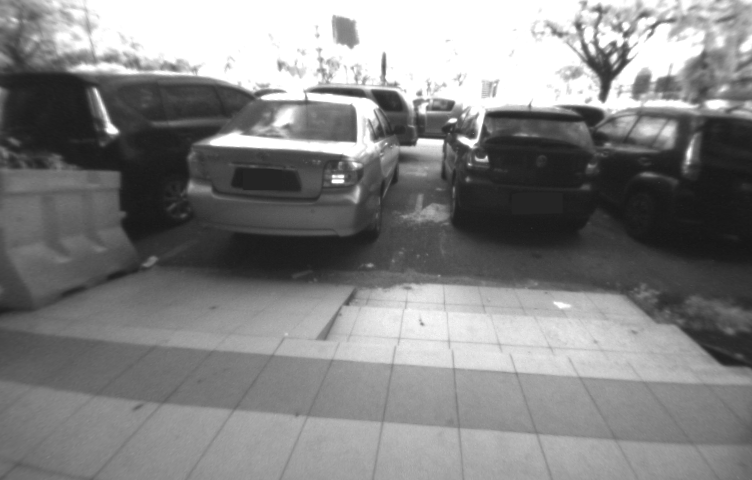down_steps: (321, 278, 749, 385)
mixed_gradient: (286, 278, 368, 366)
